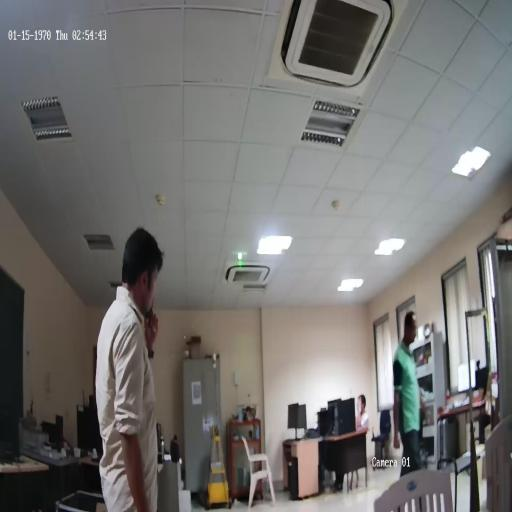laser: (236, 246, 243, 267)
